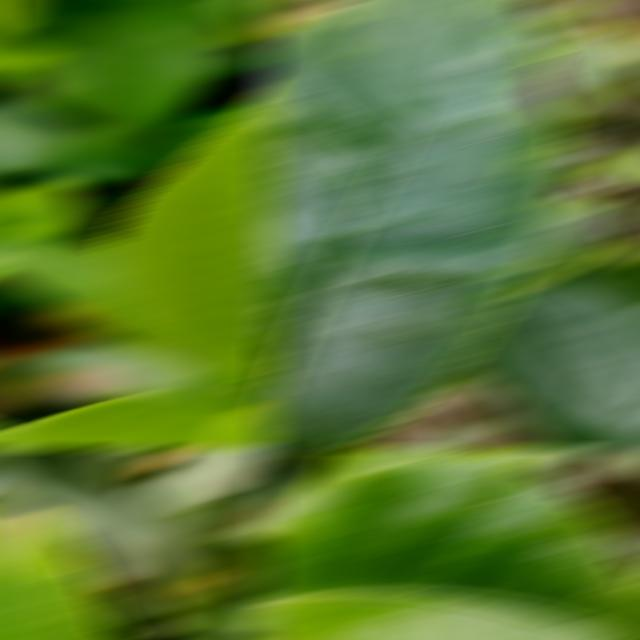Leaf: (260, 2, 575, 446), (260, 458, 640, 638), (103, 85, 276, 376), (26, 2, 228, 141), (467, 296, 640, 446), (262, 450, 549, 539), (0, 450, 199, 577), (0, 232, 167, 347), (0, 514, 133, 638), (509, 180, 640, 293), (0, 397, 276, 446), (0, 101, 156, 183), (550, 251, 640, 325), (546, 37, 632, 113)
